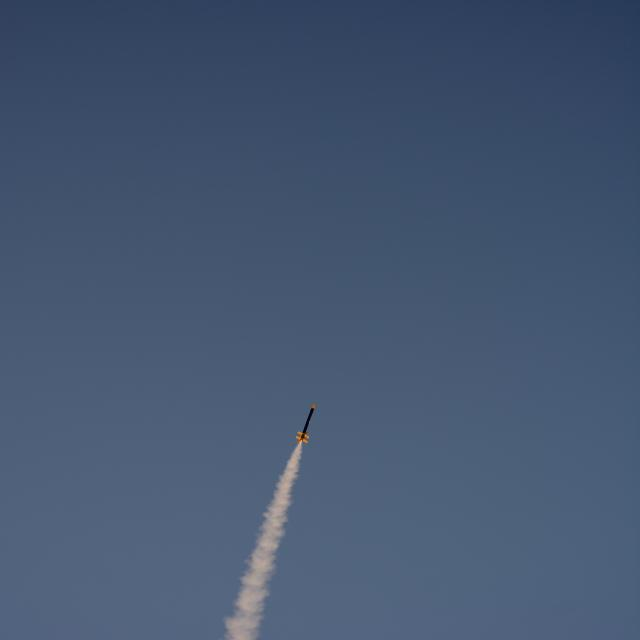Rocket: (295, 403, 316, 444)
